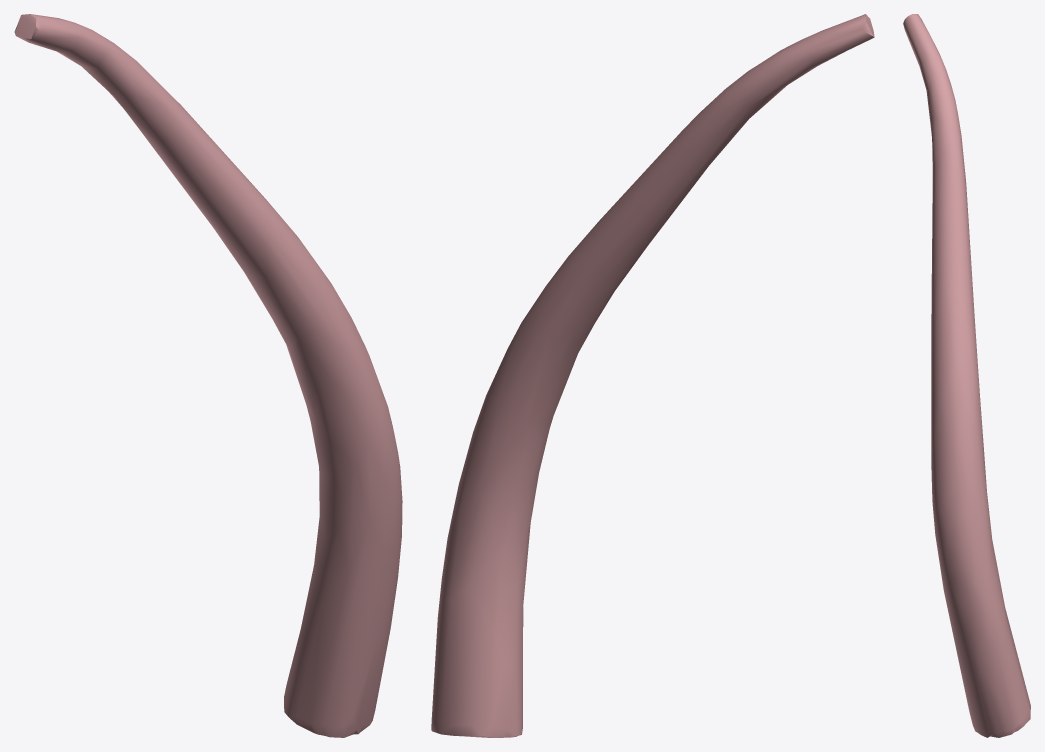
The model's file is fma68223_fj2444.glb.
The picture shows the model from 3 angles, left to right: view 1: azimuth 30°, elevation 25°; view 2: azimuth 150°, elevation 25°; view 3: azimuth 270°, elevation 25°; orthographic projection. The views are drawn at different scales.
Parts seen in each view (by area): view 1: FMA68223_FJ2444; view 2: FMA68223_FJ2444; view 3: FMA68223_FJ2444.
Part boxes in pixels (left/top/right/bottom): FMA68223_FJ2444: left=14, top=14, right=402, bottom=737; FMA68223_FJ2444: left=431, top=14, right=874, bottom=737; FMA68223_FJ2444: left=903, top=14, right=1030, bottom=737.
Bounding box in the file's own units: 0.0428 × 0.0813 × 0.016.
